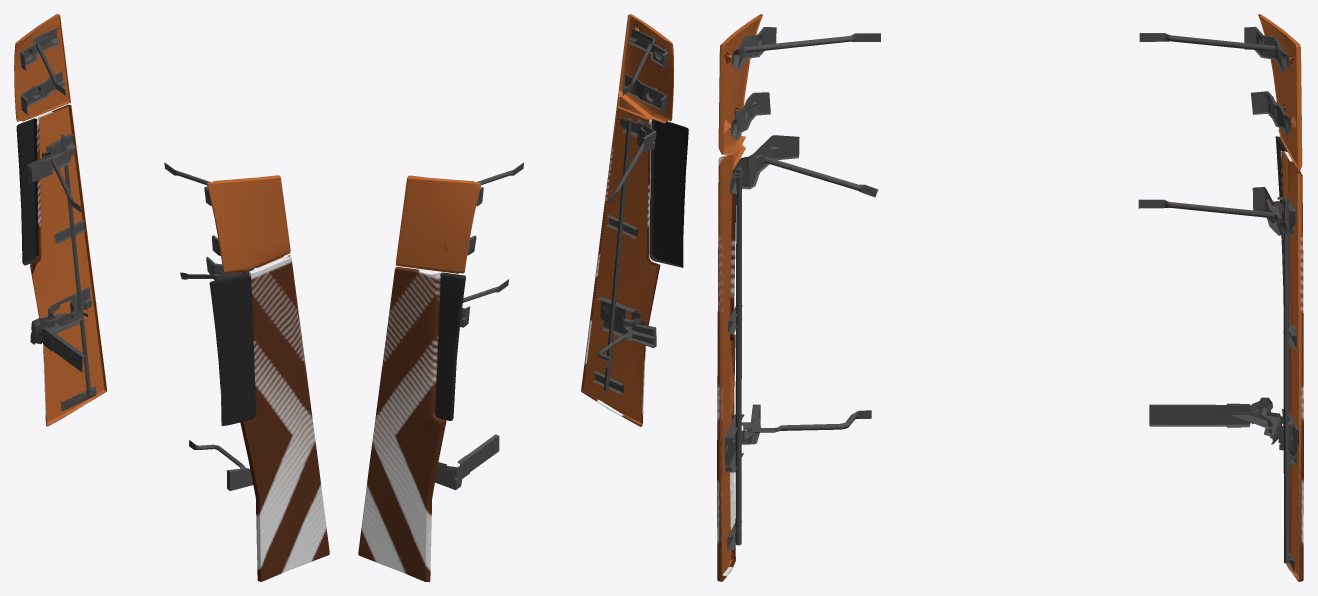
The model's file is Cabin_Side_Deflector.glb.
The picture shows the model from 3 angles, left to right: view 1: azimuth 30°, elevation 25°; view 2: azimuth 150°, elevation 25°; view 3: azimuth 270°, elevation 25°; orthographic projection. The views are drawn at different scales.
Visible parts, largest first — view 1: Cabin:Side_Deflector; view 2: Cabin:Side_Deflector; view 3: Cabin:Side_Deflector.
Boxes of the visible parts, x1,y1,x2,y2 form: Cabin:Side_Deflector: (14,14,329,581); Cabin:Side_Deflector: (358,14,688,581); Cabin:Side_Deflector: (717,14,1303,581).
Bounding box in the file's own units: 0.7359 × 2.51 × 2.53.
1 material, 1 textured.
